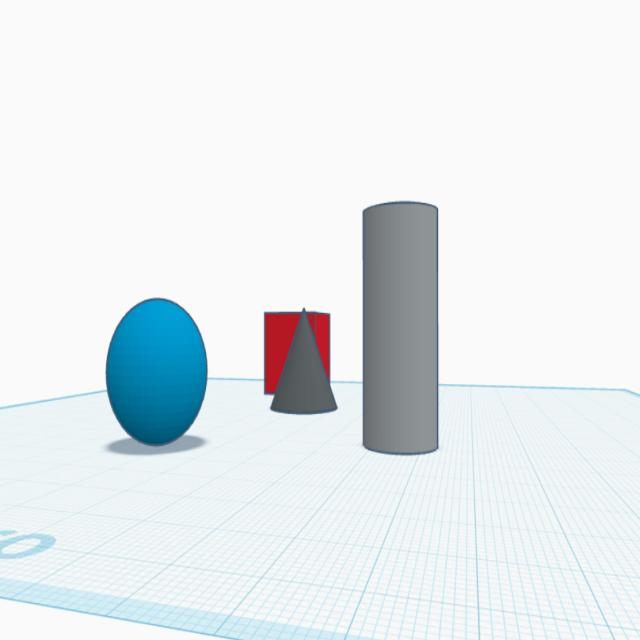cone: (268, 308, 340, 417)
sphere: (102, 292, 211, 450)
